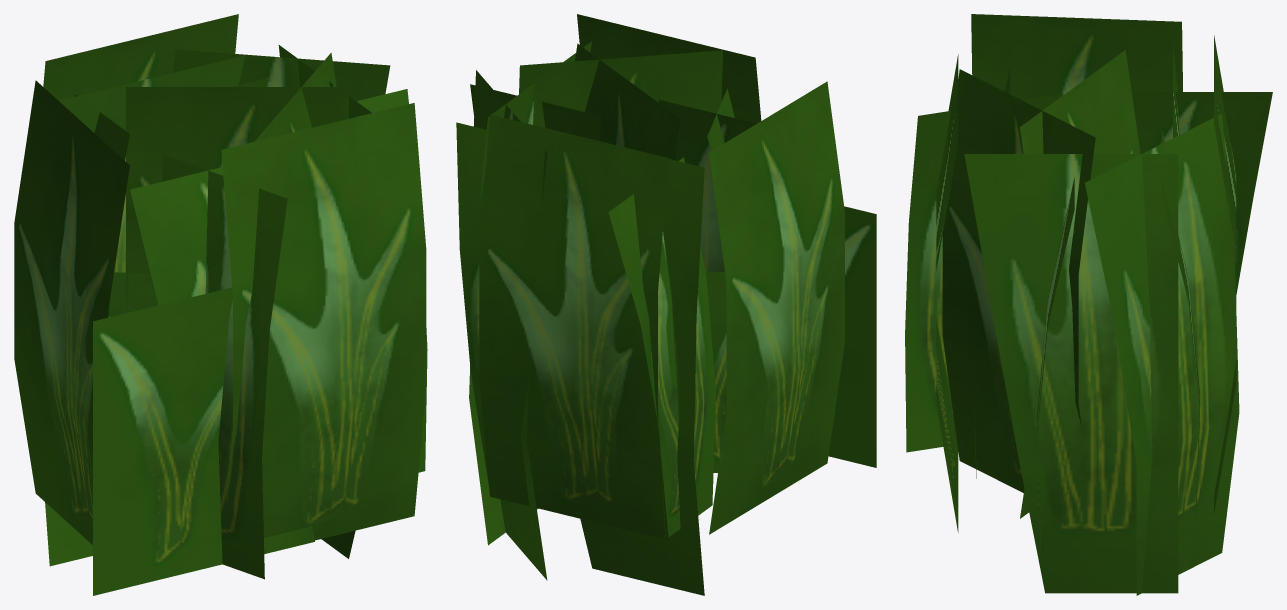
File: Grass_Bunch.FBX
3 views of the same model, side by side, from view 1: azimuth 30°, elevation 25°; view 2: azimuth 150°, elevation 25°; view 3: azimuth 270°, elevation 25° (orthographic). The views are drawn at different scales.
Parts seen in each view (by area): view 1: Grass_011, Grass_018, Grass_014, Grass_015, Grass_024, Grass_025, Grass_026, Grass_020, Grass_023, Grass_028, Grass_021, Grass_019 (+2 smaller); view 2: Grass_026, Grass_014, Grass_020, Grass_017, Grass_018, Grass_028, Grass_024, Grass_027, Grass_011, Grass_025, Grass_023, Grass_019 (+3 smaller); view 3: Grass_019, Grass_023, Grass_028, Grass_014, Grass_015, Grass_017, Grass_024, Grass_011, Grass_026, Grass_012, Grass_027.
Part boxes in pixels (<box>): Grass_011: <box>221,103,426,540</box>; Grass_018: <box>93,287,314,595</box>; Grass_014: <box>14,80,129,544</box>; Grass_015: <box>162,154,287,579</box>; Grass_024: <box>126,87,348,313</box>; Grass_025: <box>130,167,223,304</box>; Grass_026: <box>43,14,238,100</box>; Grass_020: <box>45,55,244,566</box>; Grass_023: <box>173,49,390,101</box>; Grass_028: <box>255,53,336,141</box>; Grass_021: <box>108,272,158,317</box>; Grass_019: <box>278,45,371,558</box>; Grass_026: <box>479,114,668,539</box>; Grass_014: <box>709,81,844,534</box>; Grass_020: <box>580,159,704,595</box>; Grass_017: <box>608,157,715,538</box>; Grass_018: <box>828,206,876,467</box>; Grass_028: <box>519,50,722,127</box>; Grass_024: <box>575,43,680,159</box>; Grass_027: <box>456,122,488,485</box>; Grass_011: <box>577,14,761,123</box>; Grass_025: <box>658,99,756,271</box>; Grass_023: <box>473,70,547,580</box>; Grass_019: <box>469,41,592,545</box>; Grass_019: <box>964,154,1178,593</box>; Grass_023: <box>1084,114,1239,595</box>; Grass_028: <box>942,69,1095,492</box>; Grass_014: <box>971,14,1182,99</box>; Grass_015: <box>905,93,1062,452</box>; Grass_017: <box>1131,92,1272,295</box>; Grass_024: <box>1020,50,1140,518</box>; Grass_011: <box>936,54,958,532</box>; Grass_026: <box>1214,35,1236,514</box>; Grass_012: <box>1036,177,1074,557</box>; Grass_027: <box>1162,130,1199,519</box>.
Bounding box in the file's own units: 8.45 × 10.39 × 7.53.
